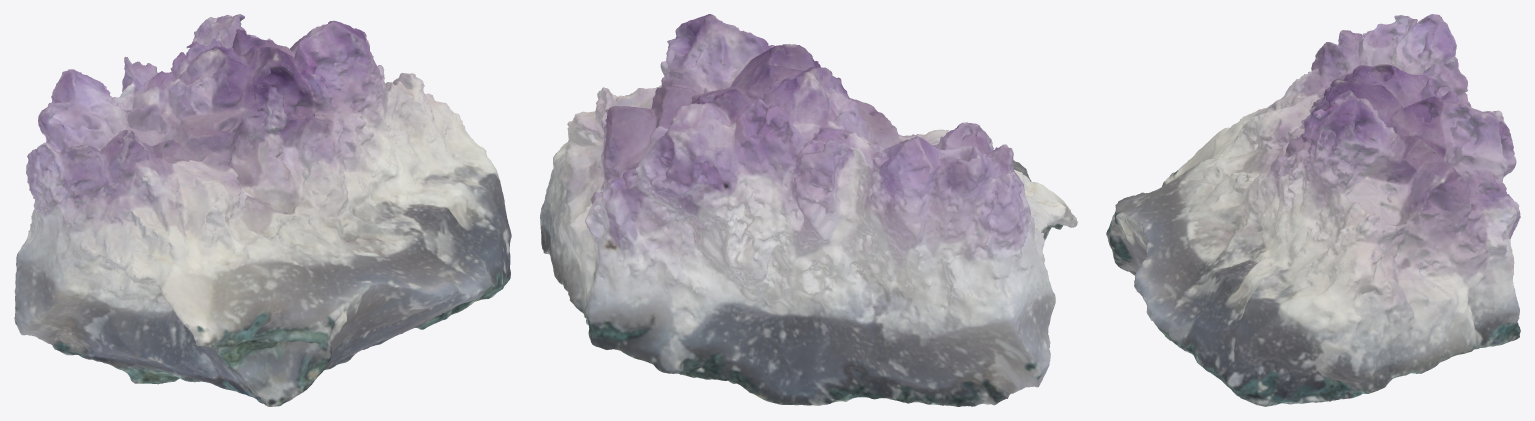
The model's file is amethyst.glb.
3 renders of one model, left to right at view 1: azimuth 30°, elevation 25°; view 2: azimuth 150°, elevation 25°; view 3: azimuth 270°, elevation 25°, orthographic. The views are drawn at different scales.
Parts seen in each view (by area): view 1: Object_3, Object_2, Object_4; view 2: Object_3, Object_2, Object_4; view 3: Object_2, Object_3, Object_4.
Part boxes in pixels (bbox=[...]): Object_3: bbox=[14, 56, 383, 406]; Object_2: bbox=[68, 16, 511, 383]; Object_4: bbox=[26, 14, 502, 396]; Object_3: bbox=[711, 76, 1069, 406]; Object_2: bbox=[540, 14, 1040, 406]; Object_4: bbox=[542, 14, 1077, 405]; Object_2: bbox=[1134, 62, 1520, 406]; Object_3: bbox=[1106, 14, 1469, 275]; Object_4: bbox=[1153, 16, 1519, 397].
Size of the model in its own units: 29.08 by 18.44 by 23.64.
1 material, 1 textured.
